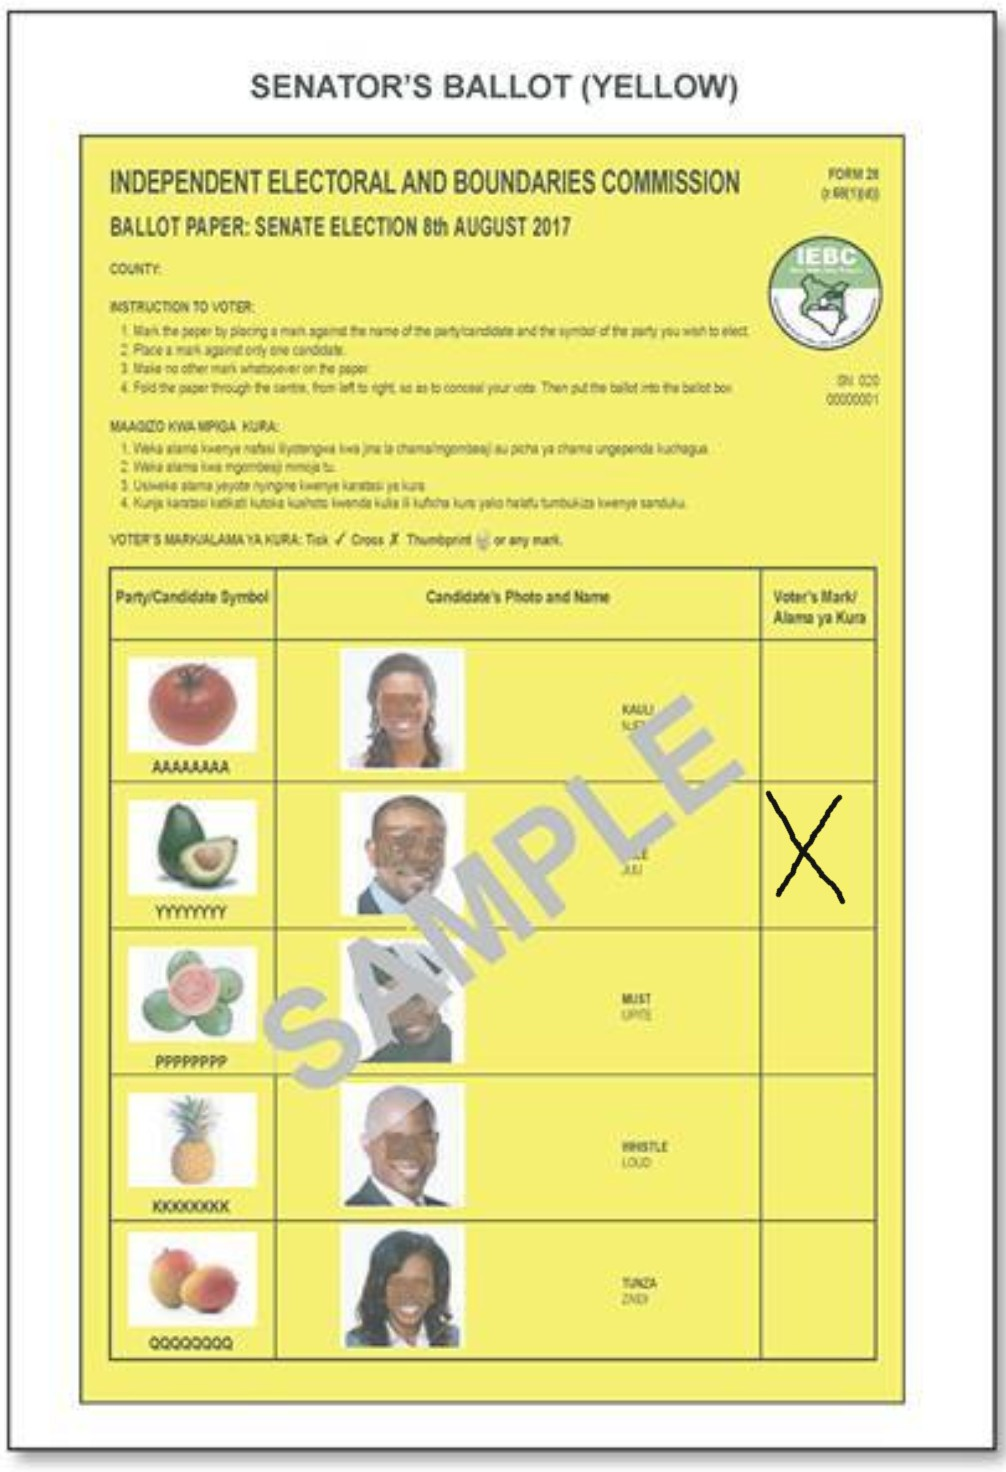mark: (756, 786, 869, 919)
